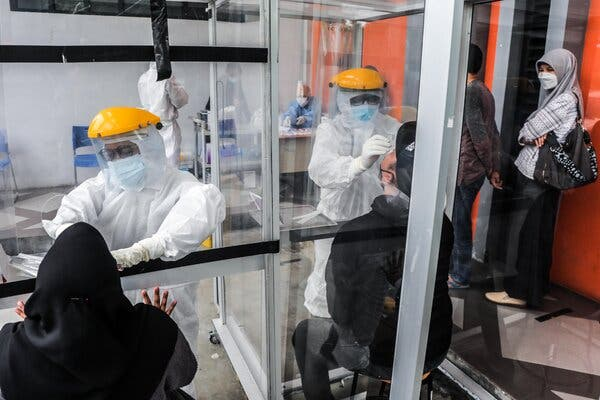Face_Shield: (87, 104, 163, 201), (330, 68, 391, 132)
with_mask: (101, 140, 143, 188), (349, 93, 379, 120), (538, 61, 558, 90)
